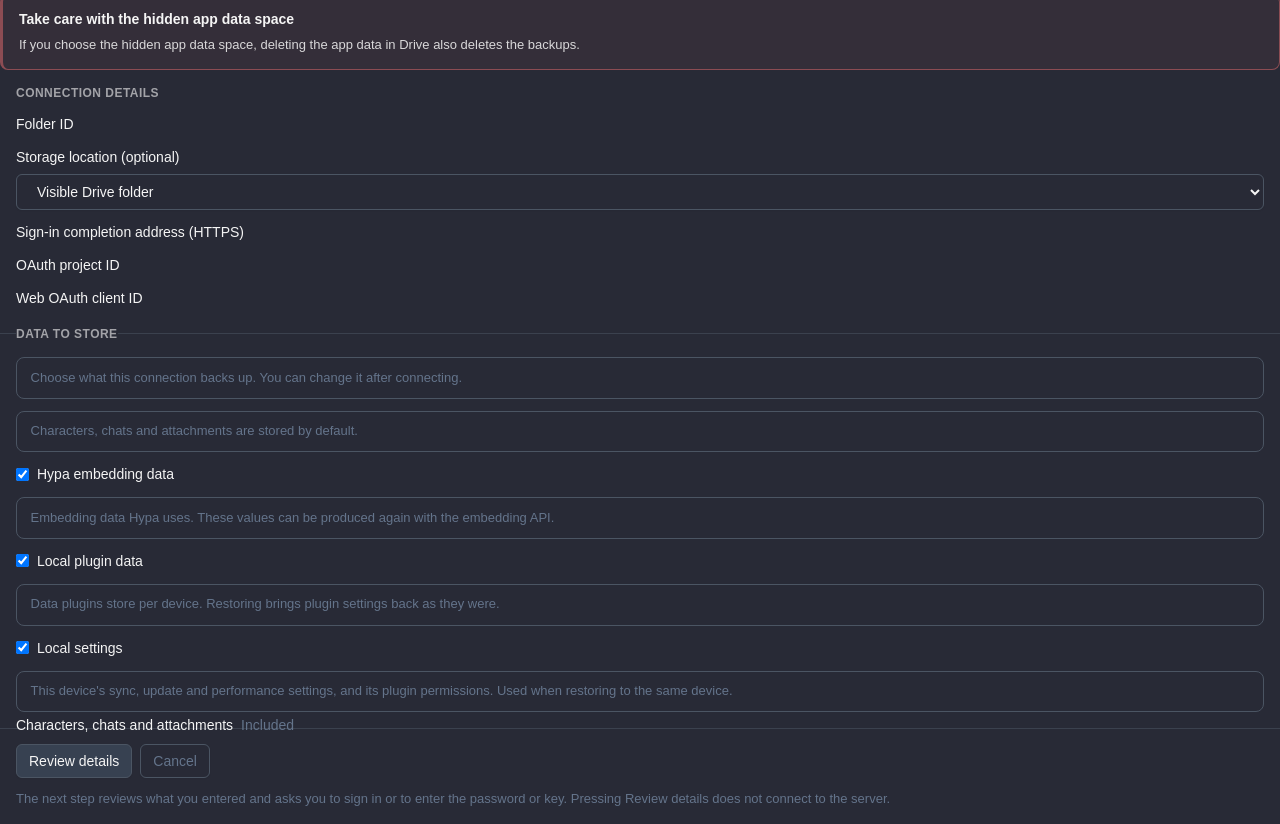
native failure messages › reports a rejected sign-in instead of a bare failure
(page scrolled)
Step 1. Click the button "Review details" → (74, 761), box [16,744,132,778]
(page scrolled)
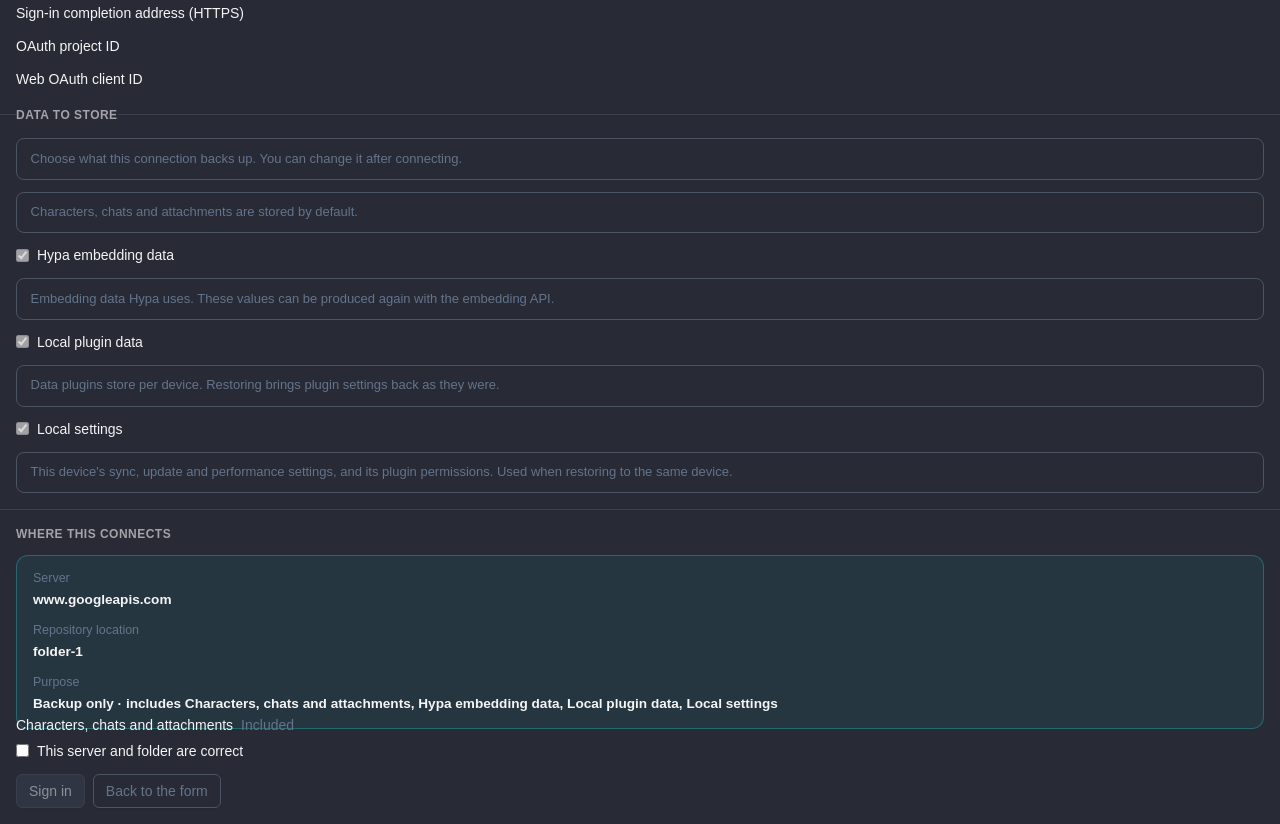
Step 2. Click the checkbox labelled "This server and folder are correct" → (22, 751), box [16,744,29,757]
(page scrolled)
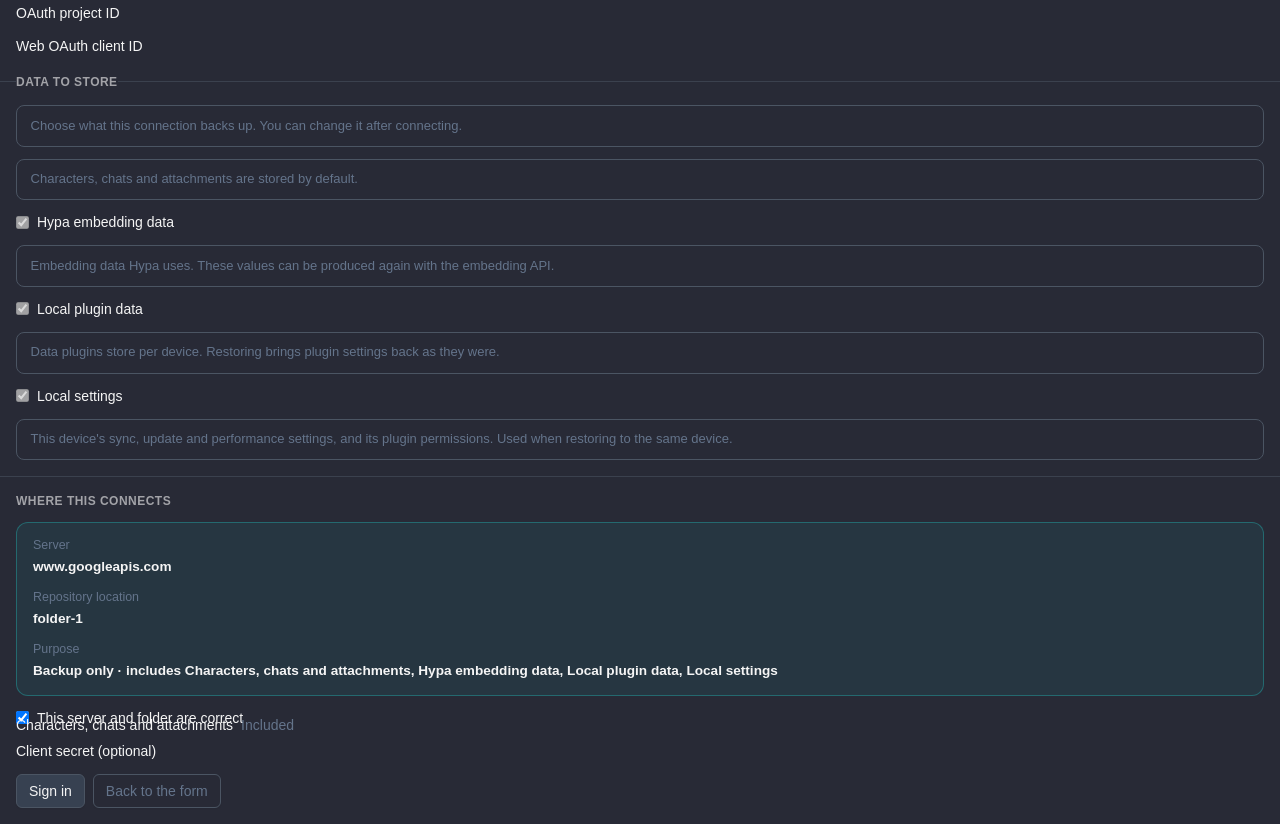
Step 3. Click the button "Sign in" → (50, 791), box [16,774,85,808]
(page scrolled)
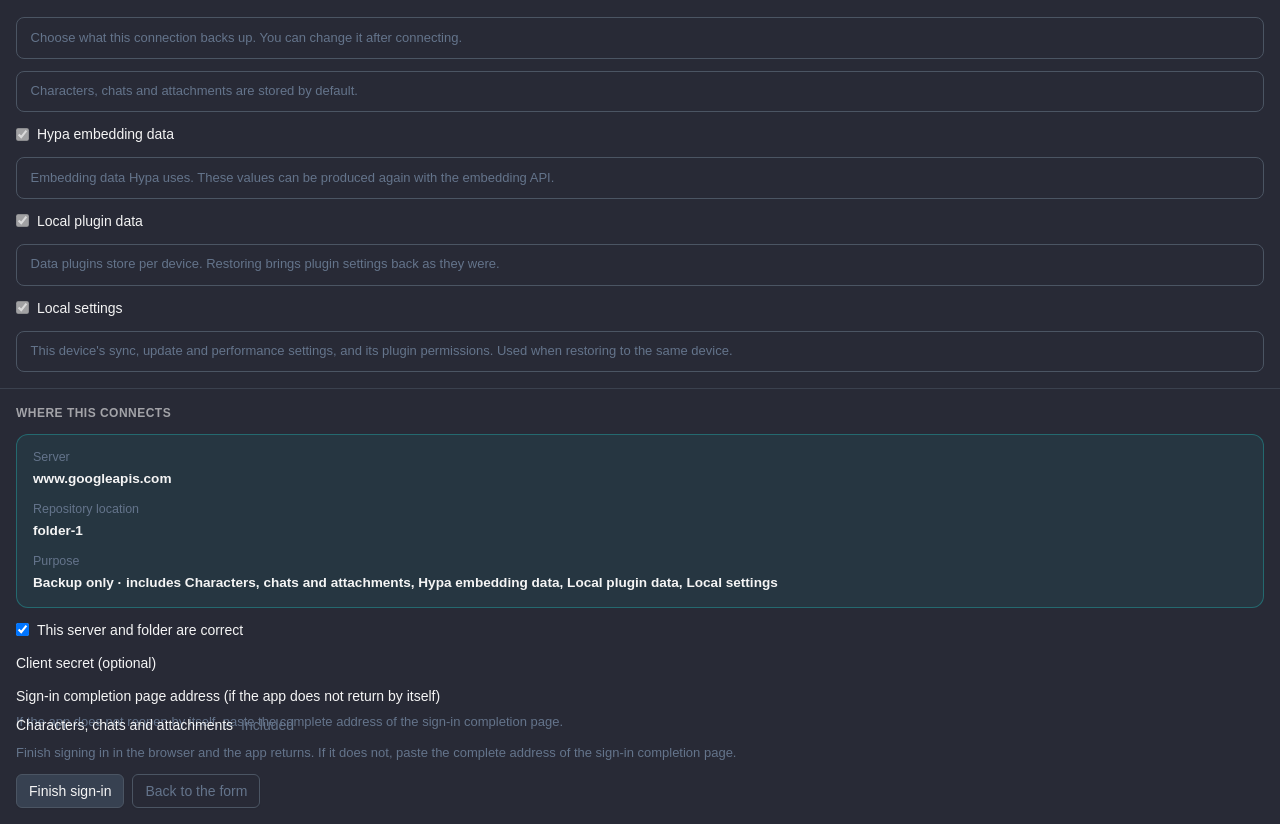
Step 4. Click the button "Finish sign-in" → (70, 791), box [16,774,124,808]
(page scrolled)
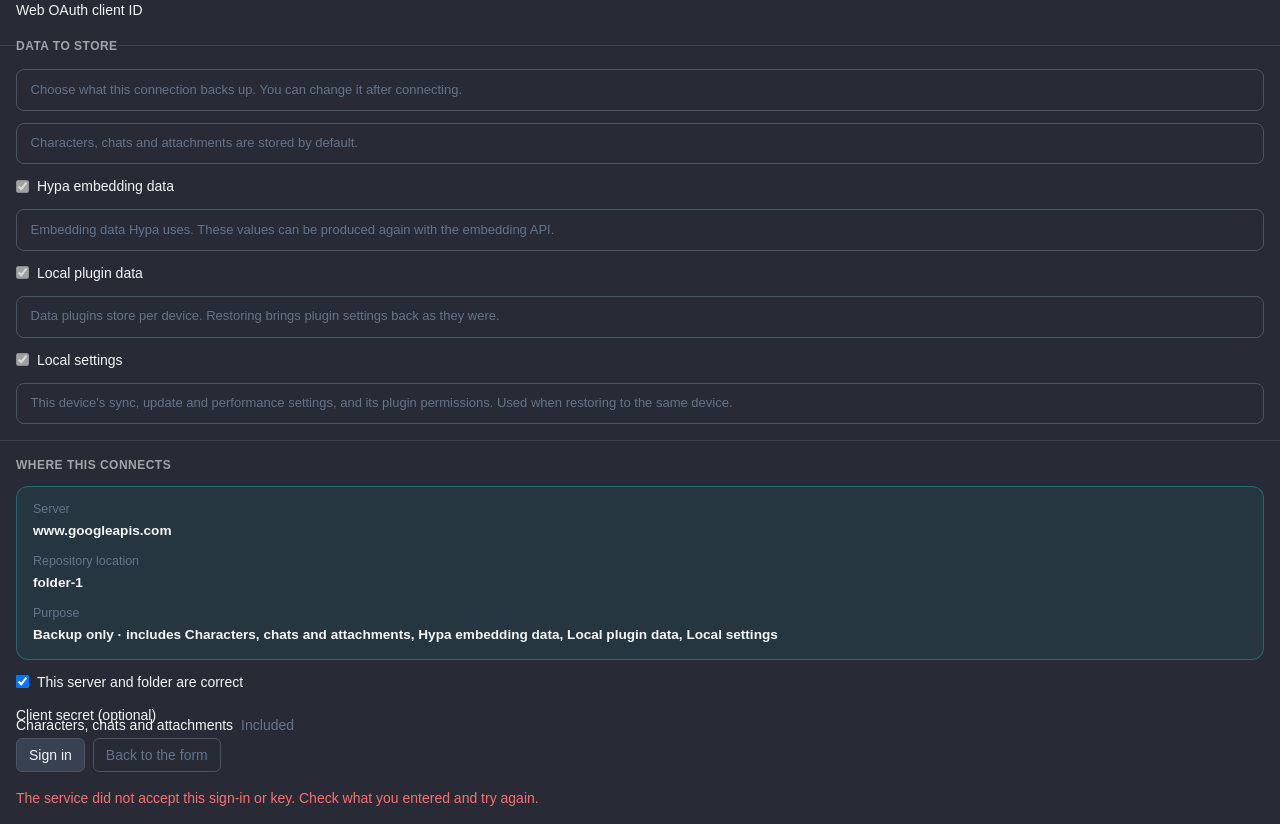
Now the text "The service did not accept this sign-in or key. Check what you entered and try again." is shown, box [16,790,539,806]
